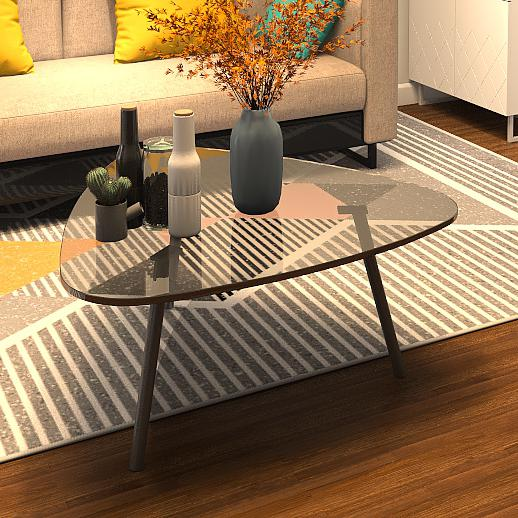table: (34, 139, 457, 447)
